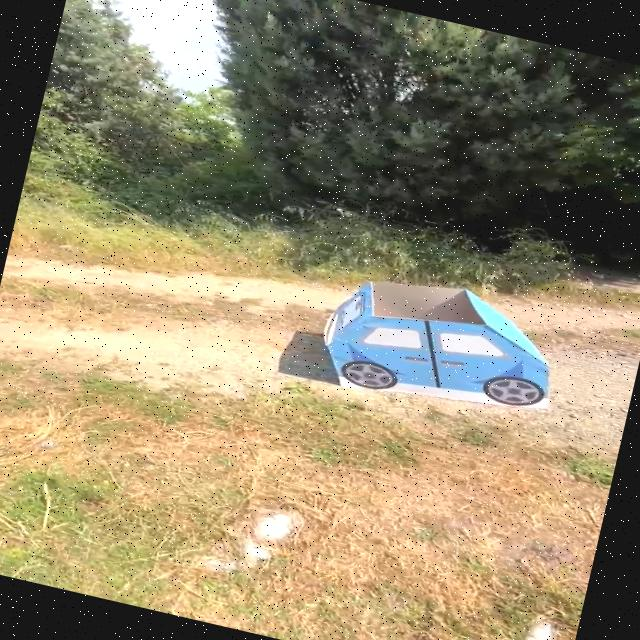blue_car: (296, 245, 581, 456)
